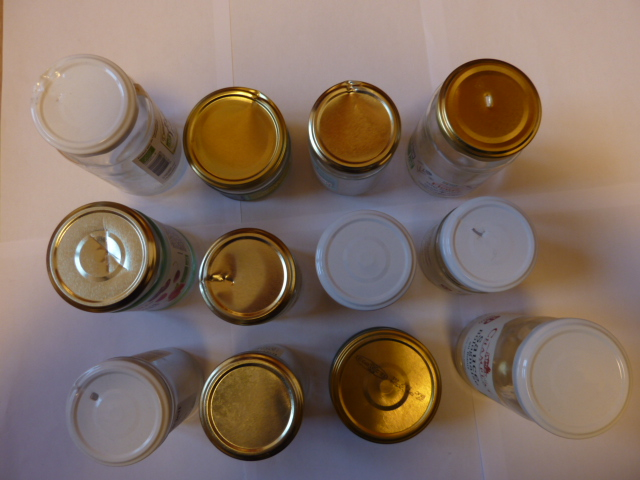damaged: (64, 360, 172, 467), (30, 55, 136, 154), (198, 228, 293, 325)
